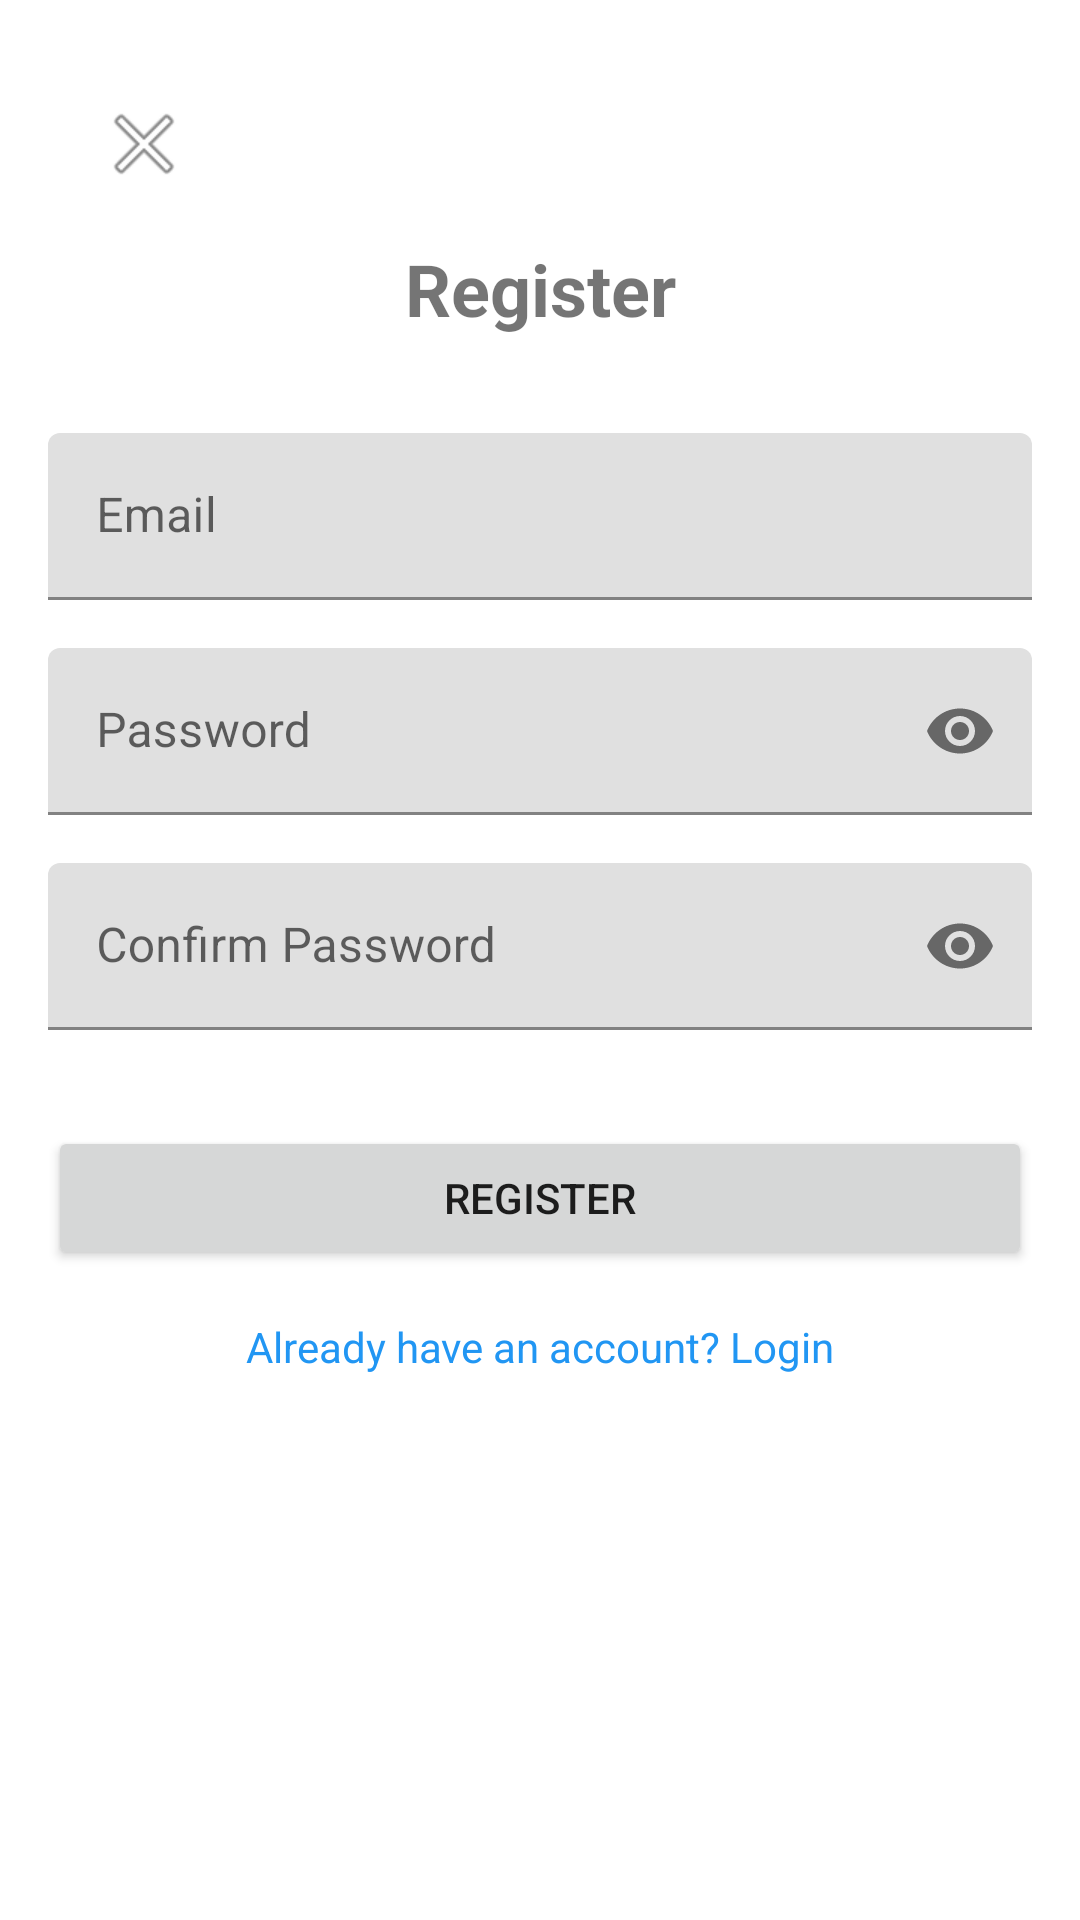

Icons on this 1080 × 1920 Android screen, each with its box as (left=x1, top=y1, right=x2, bottom=y2):
close clear cancel: (left=114, top=114, right=174, bottom=174)
